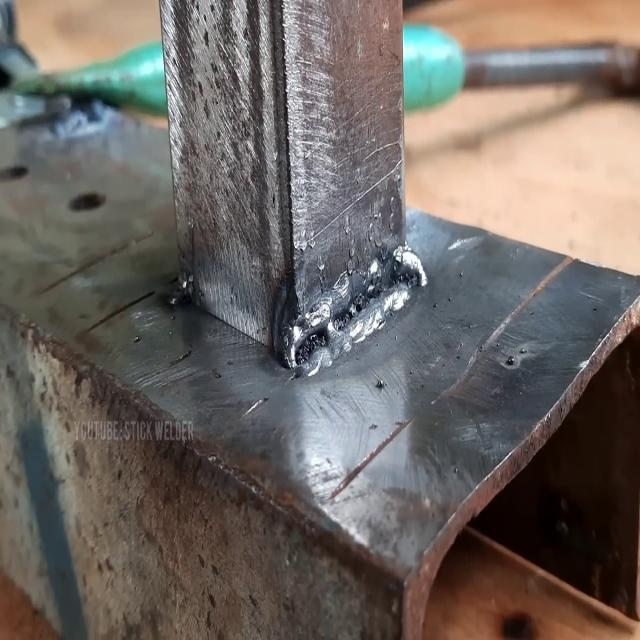Bad Welding: (292, 247, 426, 379)
